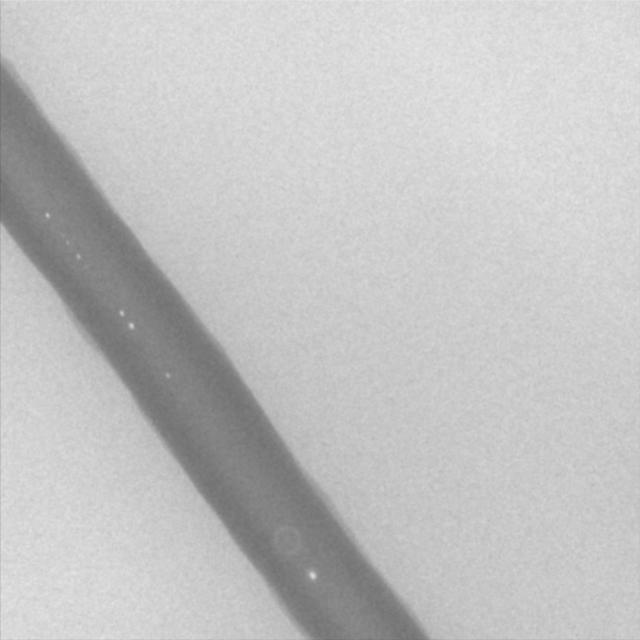air hole: (306, 567, 317, 581), (74, 251, 82, 262), (128, 322, 136, 332), (117, 308, 125, 318), (43, 209, 50, 219), (165, 371, 172, 380)
hollow bead: (271, 524, 304, 558)
